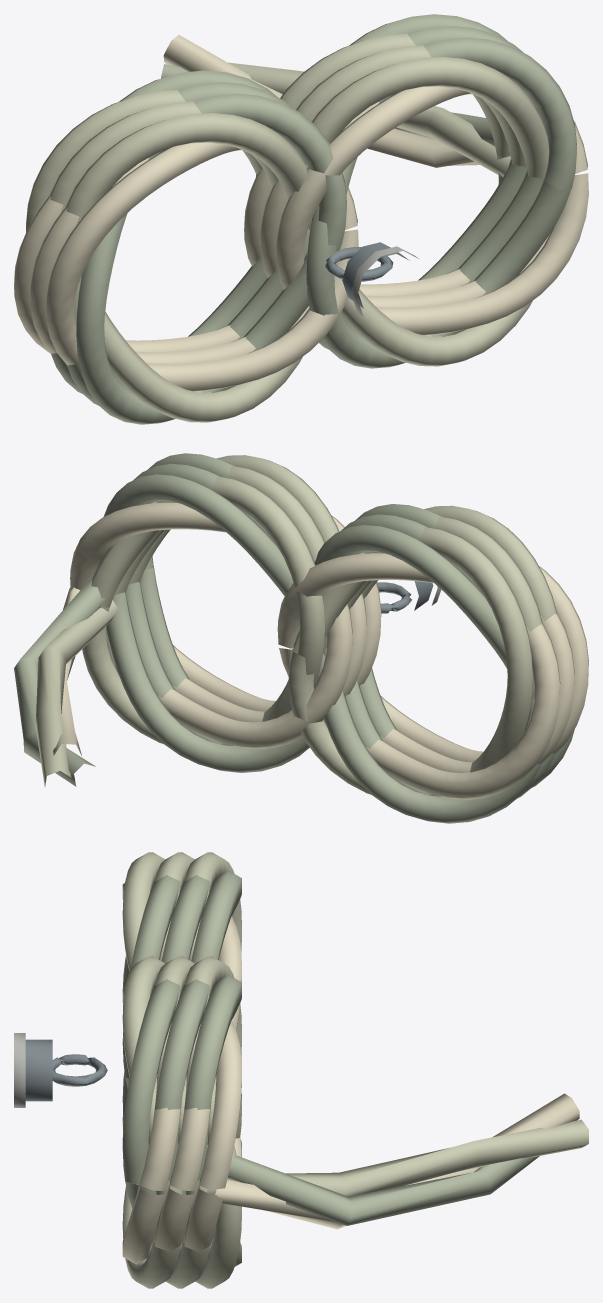
The model's file is rope_stowed.glb.
The picture shows the model from 3 angles, top to bottom: view 1: azimuth 30°, elevation 25°; view 2: azimuth 150°, elevation 25°; view 3: azimuth 270°, elevation 25°; orthographic projection. The views are drawn at different scales.
Visible parts, largest first — view 1: rope_stowed; view 2: rope_stowed; view 3: rope_stowed.
Boxes of the visible parts, box(x1,y1,x2,y2) form: rope_stowed: box(14, 14, 588, 424); rope_stowed: box(14, 453, 588, 823); rope_stowed: box(14, 852, 588, 1288).
Bounding box in the file's own units: 0.3529 × 0.1953 × 0.3498.
